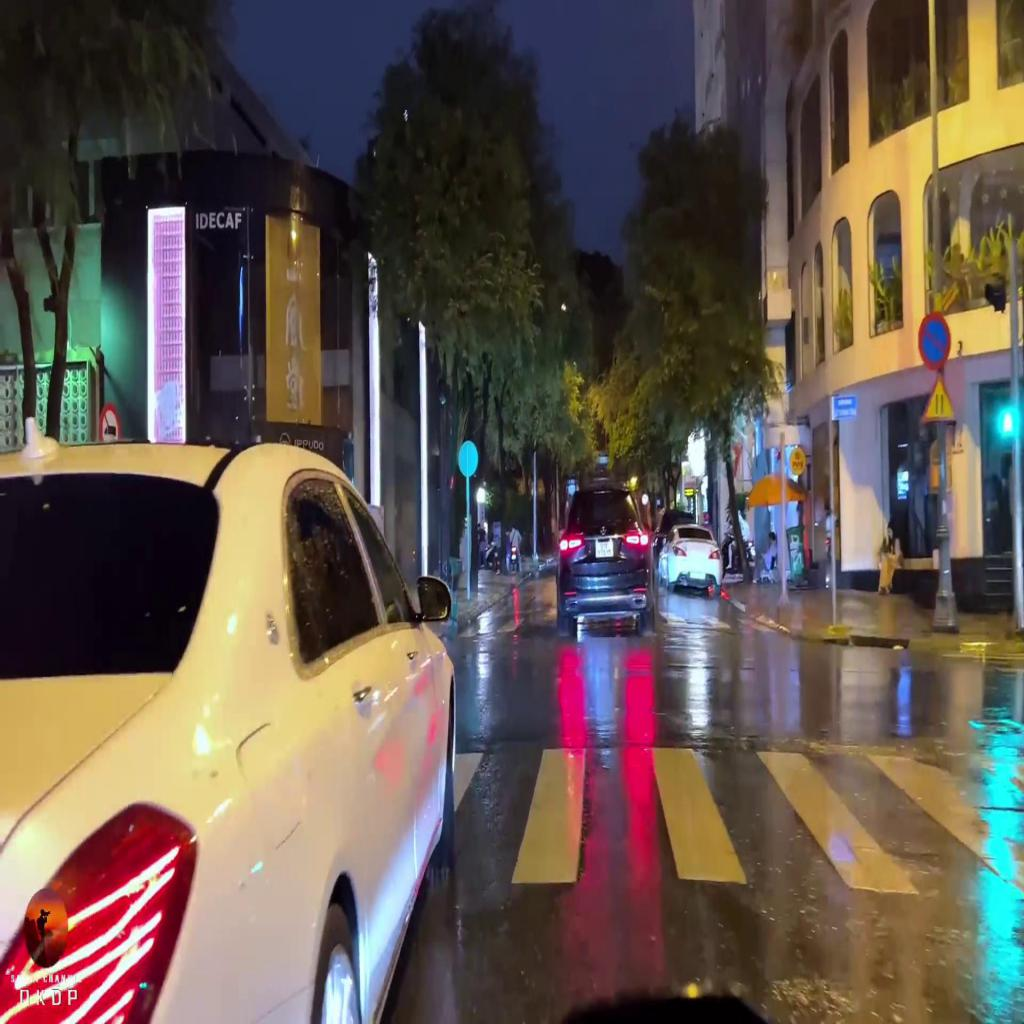cam_do_xe: (919, 314, 950, 367)
khac: (927, 379, 954, 418)
